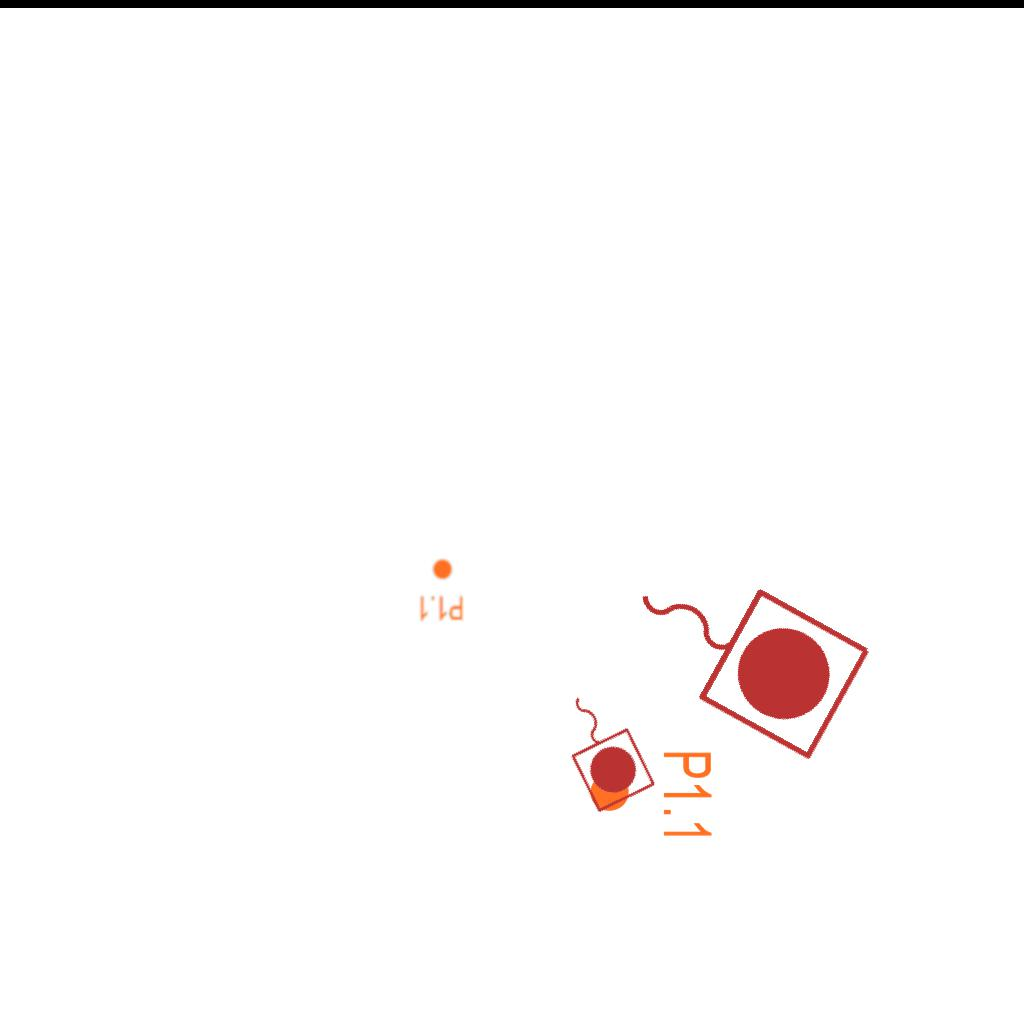Downlight_LED_Einbauleuchten_Flur: (587, 749, 715, 842), (418, 558, 464, 622)
Zugtaster: (599, 525, 883, 771), (543, 676, 663, 818)
